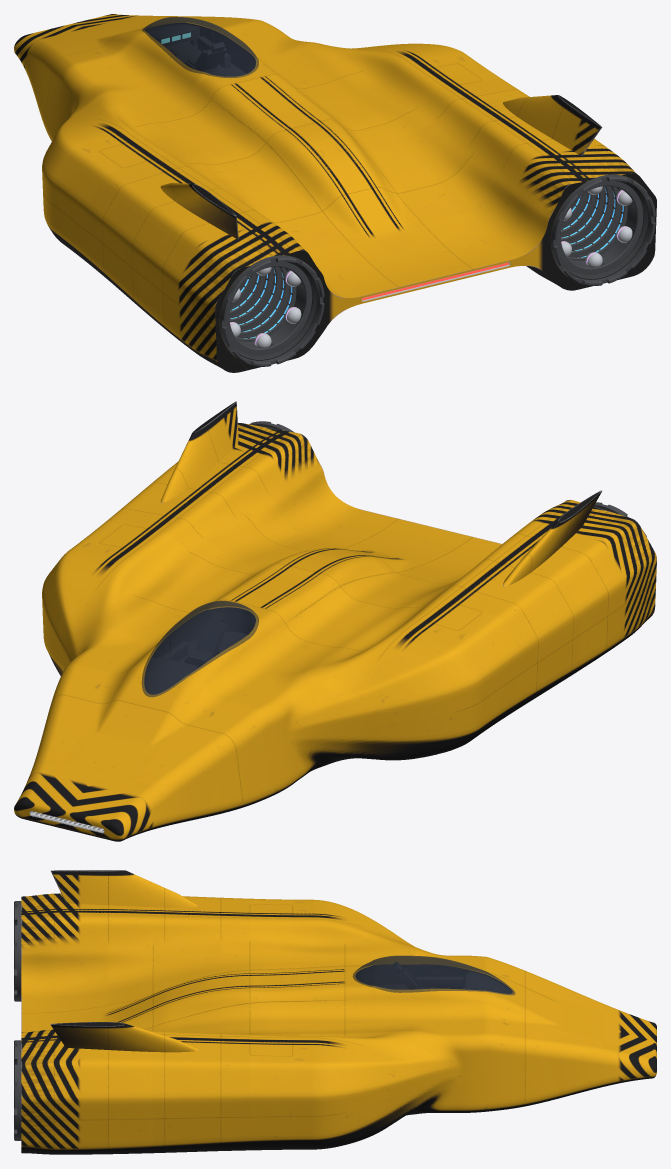
File: heavy_web_2k.glb
3 views of the same model, one above another, from view 1: azimuth 30°, elevation 25°; view 2: azimuth 150°, elevation 25°; view 3: azimuth 270°, elevation 25° (orthographic). The views are drawn at different scales.
Visible parts, largest first — view 1: Hull, Canopy, Fin_R, Teeth_L, Teeth_R, Dock_R, Dock_L, Fin_L, Cockpit, Coil_L1, Coil_R1, Coil_R2 (+3 smaller); view 2: Hull, Canopy, Fin_R, Cockpit, Fin_L; view 3: Hull, Canopy, Fin_L, Fin_R, Cockpit, Teeth_R, Teeth_L.
Part boxes in pixels (bbox=[...]): Hull: bbox=[14, 14, 656, 372]; Canopy: bbox=[142, 17, 258, 77]; Fin_R: bbox=[503, 95, 602, 155]; Teeth_L: bbox=[219, 255, 324, 366]; Teeth_R: bbox=[551, 174, 655, 285]; Dock_R: bbox=[556, 180, 643, 274]; Dock_L: bbox=[225, 261, 312, 355]; Fin_L: bbox=[160, 182, 238, 239]; Cockpit: bbox=[145, 24, 230, 72]; Coil_L1: bbox=[239, 267, 289, 336]; Coil_R1: bbox=[570, 186, 620, 255]; Coil_R2: bbox=[568, 186, 612, 249]; Hull: bbox=[14, 423, 656, 841]; Canopy: bbox=[141, 600, 258, 697]; Fin_R: bbox=[160, 401, 238, 502]; Cockpit: bbox=[144, 610, 226, 694]; Fin_L: bbox=[503, 490, 601, 586]; Hull: bbox=[21, 893, 656, 1154]; Canopy: bbox=[352, 955, 515, 995]; Fin_L: bbox=[51, 870, 198, 907]; Fin_R: bbox=[50, 1022, 199, 1052]; Cockpit: bbox=[393, 962, 511, 993]; Teeth_R: bbox=[14, 1040, 21, 1140]; Teeth_L: bbox=[14, 901, 21, 1001].
Size of the model in its own units: 11.49 by 3.5 by 16.59.
Materials: 17 (1 with a texture image).
